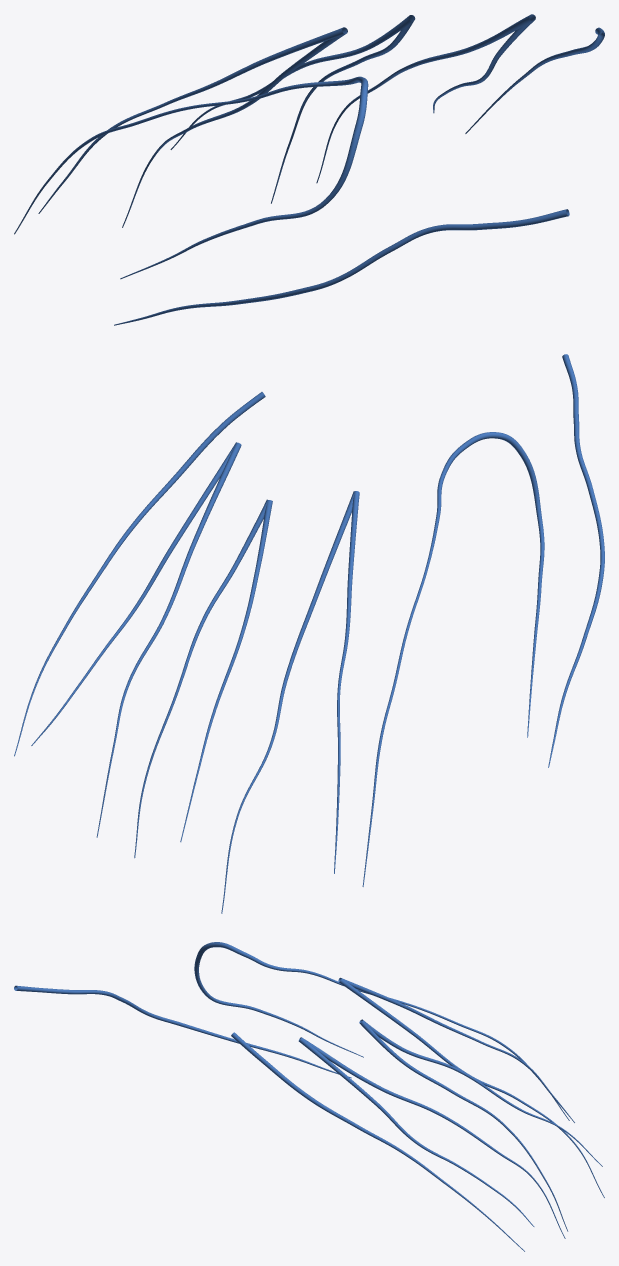
The picture shows the model from 3 angles, top to bottom: view 1: azimuth 30°, elevation 25°; view 2: azimuth 150°, elevation 25°; view 3: azimuth 270°, elevation 25°; orthographic projection. The views are drawn at different scales.
Visible parts, largest first — view 1: 右侧指背静脉; view 2: 右侧指背静脉; view 3: 右侧指背静脉.
Boxes of the visible parts, bbox=[...] form: 右侧指背静脉: bbox=[14, 14, 604, 325]; 右侧指背静脉: bbox=[14, 354, 604, 913]; 右侧指背静脉: bbox=[14, 942, 604, 1251].
Bounding box in the file's own units: 0.1565 × 0.1078 × 0.2346.
